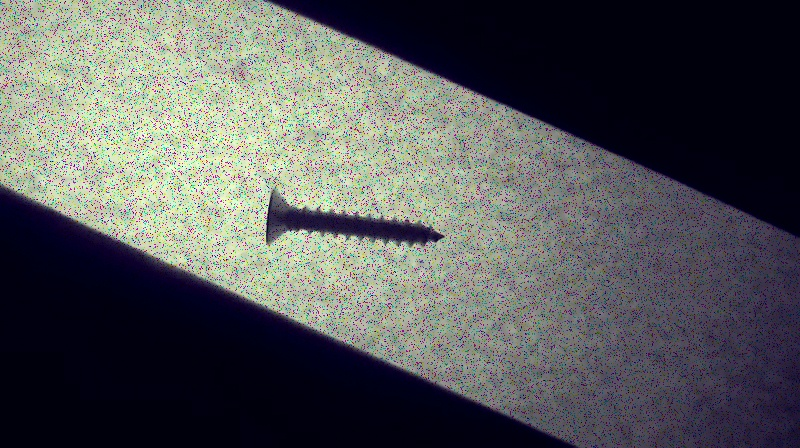S001: (262, 186, 451, 249)
